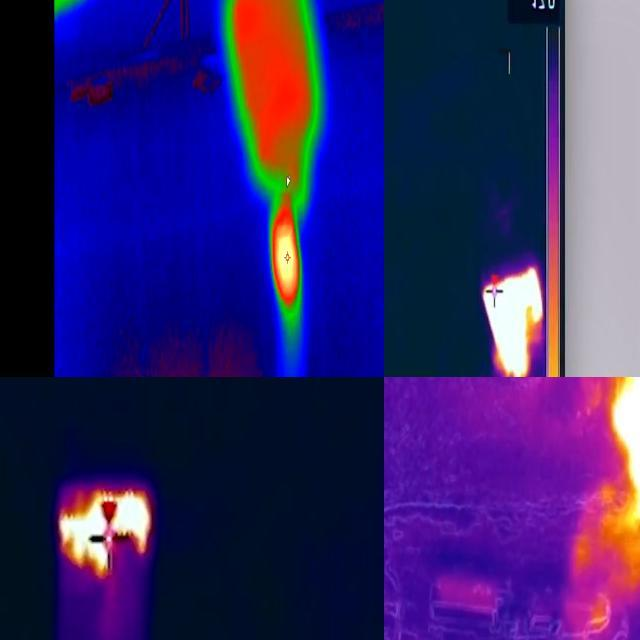fire: (58, 489, 155, 581), (481, 266, 545, 378), (270, 195, 304, 343), (610, 378, 640, 539)
